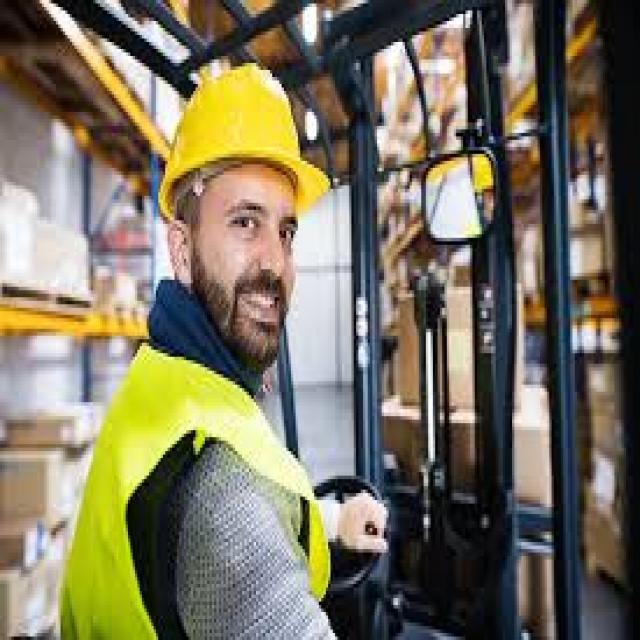Reflective-Jacket: (51, 336, 340, 636)
Safety-Helmet: (154, 52, 335, 228)
